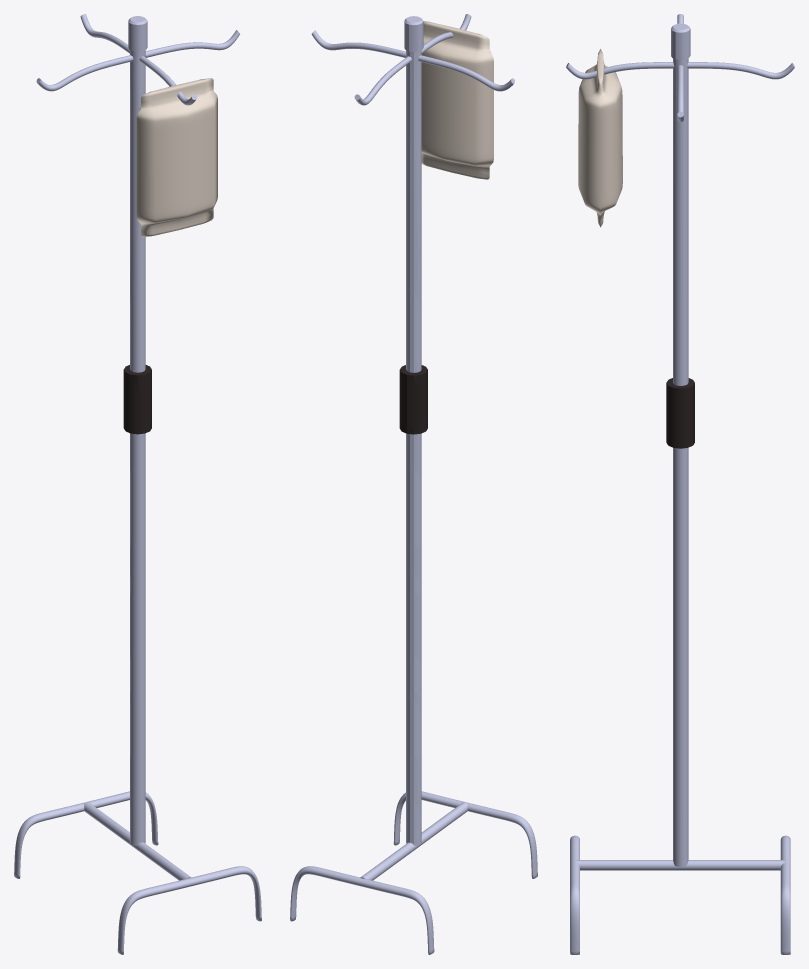
Rendered from Soro.fbx.
3 views of the same model, side by side, from view 1: azimuth 30°, elevation 25°; view 2: azimuth 150°, elevation 25°; view 3: azimuth 270°, elevation 25° (orthographic).
Parts seen in each view (by area): view 1: NurbsPath, Cube, NurbsPath.003, NurbsPath.002, NurbsPath.001, NurbsPath.004, NurbsPath.005; view 2: NurbsPath, Cube, NurbsPath.002, NurbsPath.003, NurbsPath.001, NurbsPath.004, NurbsPath.005; view 3: NurbsPath, Cube, NurbsPath.001, NurbsPath.002, NurbsPath.003, NurbsPath.006, NurbsPath.007.
Part boxes in pixels (x1,y1,x2,y2): NurbsPath: (123, 16, 151, 845); Cube: (136, 78, 217, 237); NurbsPath.003: (117, 866, 261, 954); NurbsPath.002: (14, 791, 158, 878); NurbsPath.001: (84, 802, 191, 880); NurbsPath.004: (36, 55, 133, 91); NurbsPath.005: (145, 30, 239, 57); NurbsPath: (399, 16, 427, 845); Cube: (421, 21, 493, 179); NurbsPath.002: (290, 866, 434, 954); NurbsPath.003: (393, 791, 537, 878); NurbsPath.001: (360, 802, 467, 880); NurbsPath.004: (418, 55, 514, 91); NurbsPath.005: (311, 30, 405, 57); NurbsPath: (666, 23, 694, 866); Cube: (578, 49, 622, 227); NurbsPath.001: (576, 860, 784, 870); NurbsPath.002: (780, 835, 790, 954); NurbsPath.003: (570, 835, 579, 954); NurbsPath.006: (687, 62, 794, 79); NurbsPath.007: (566, 62, 674, 79).
Size of the model in its own units: 182 by 755 by 175.
